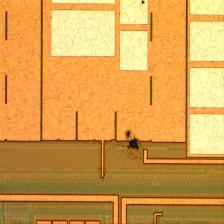PARTICLE: (117, 124, 149, 156)
